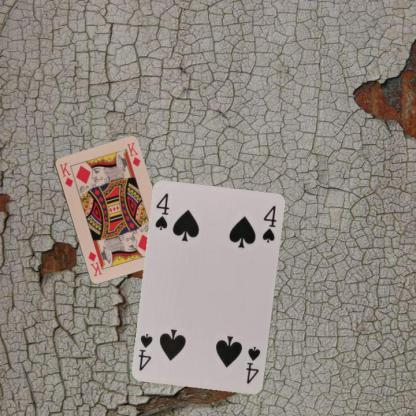4s: (243, 344, 262, 386), (153, 191, 171, 232)
Kd: (57, 160, 74, 188)
